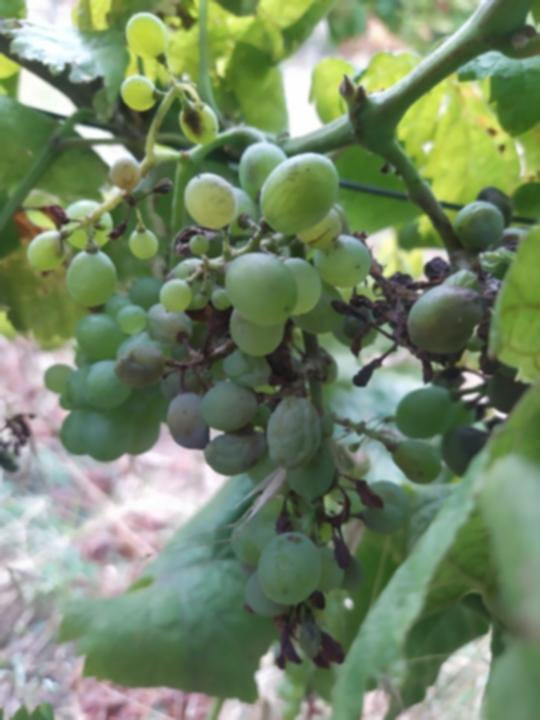grape: (110, 139, 504, 673)
